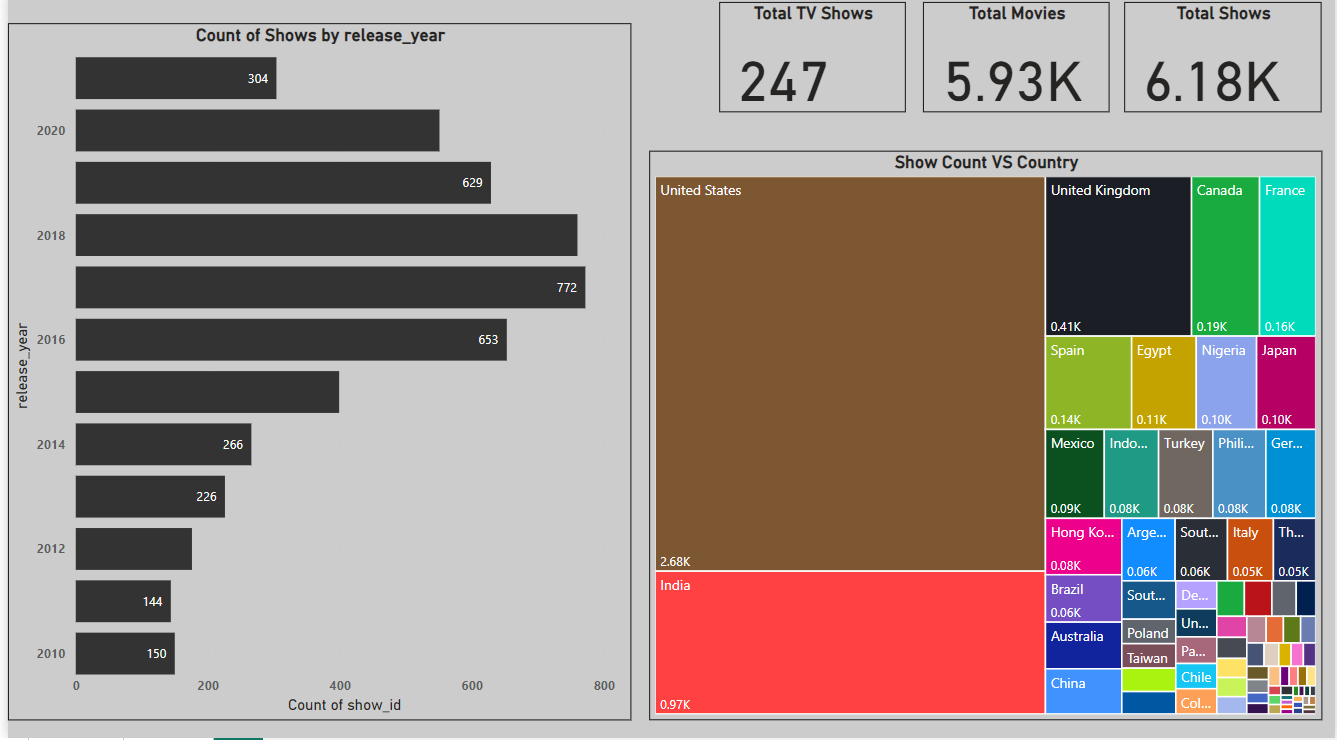

Layout of this report page (visuals, bound fields, positions):
{"tool":"powerbi","page":{"name":" Charts","canvas":[1280,720],"ordinal":1},"visuals":[{"type":"treemap","title":"Show Count VS Country","fields":{"Group":["Sheet1.country"],"Values":["CountNonNull(Sheet1.show_id)"]},"box":[619.4,153.1,649.6,550],"z":3000},{"type":"clusteredBarChart","title":"Count of Shows by release_year","fields":{"Category":["Sheet1.release_year"],"Y":["CountNonNull(Sheet1.show_id)"]},"box":[0,30.3,601.6,672.8],"z":4000},{"type":"cardVisual","title":"Total Shows","fields":{"Data":["Sheet1.Total Shows"]},"box":[1077.7,10.1,190.4,106.8],"z":4001},{"type":"cardVisual","title":"Total Movies","fields":{"Data":["Sheet1.Total Movies"]},"box":[883,10.1,180.3,106.8],"z":4002},{"type":"cardVisual","title":"Total  TV Shows","fields":{"Data":["Sheet1.Total TV Shows"]},"box":[686.8,10.1,180.3,106.8],"z":4003}]}

Visuals, with their boxes in screenshot pixels (x1, y1, x2, y2), scaled from the page's 1280x720 canvas onto the 1337x740 screenshot:
"Show Count VS Country" treemap: bbox=(647, 157, 1326, 723)
"Count of Shows by release_year" clusteredBarChart: bbox=(0, 31, 628, 723)
"Total Shows" cardVisual: bbox=(1126, 10, 1325, 120)
"Total Movies" cardVisual: bbox=(922, 10, 1111, 120)
"Total  TV Shows" cardVisual: bbox=(717, 10, 906, 120)
